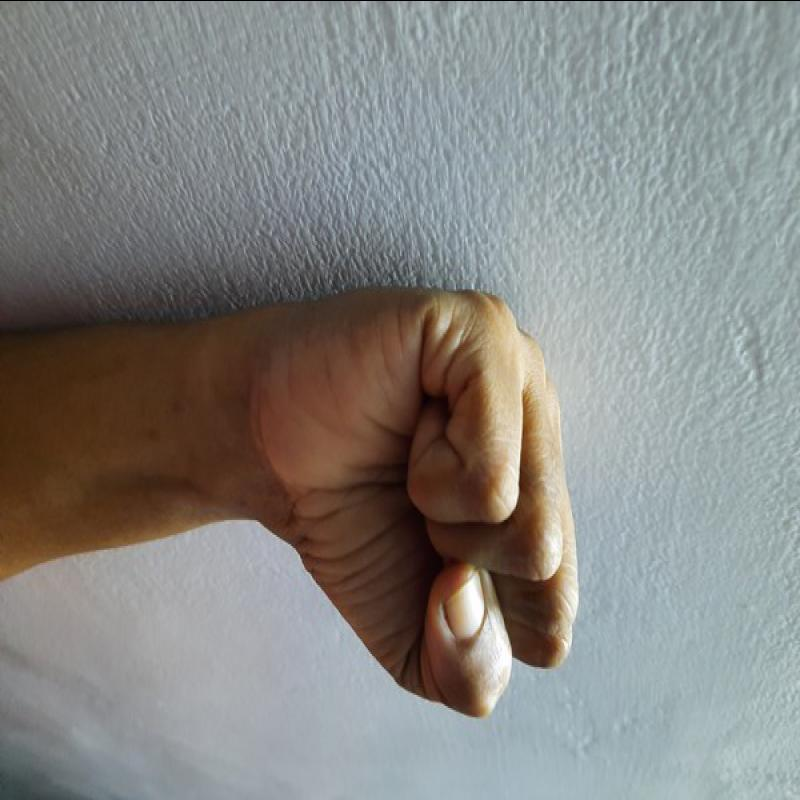Mushti: (201, 266, 600, 732)
